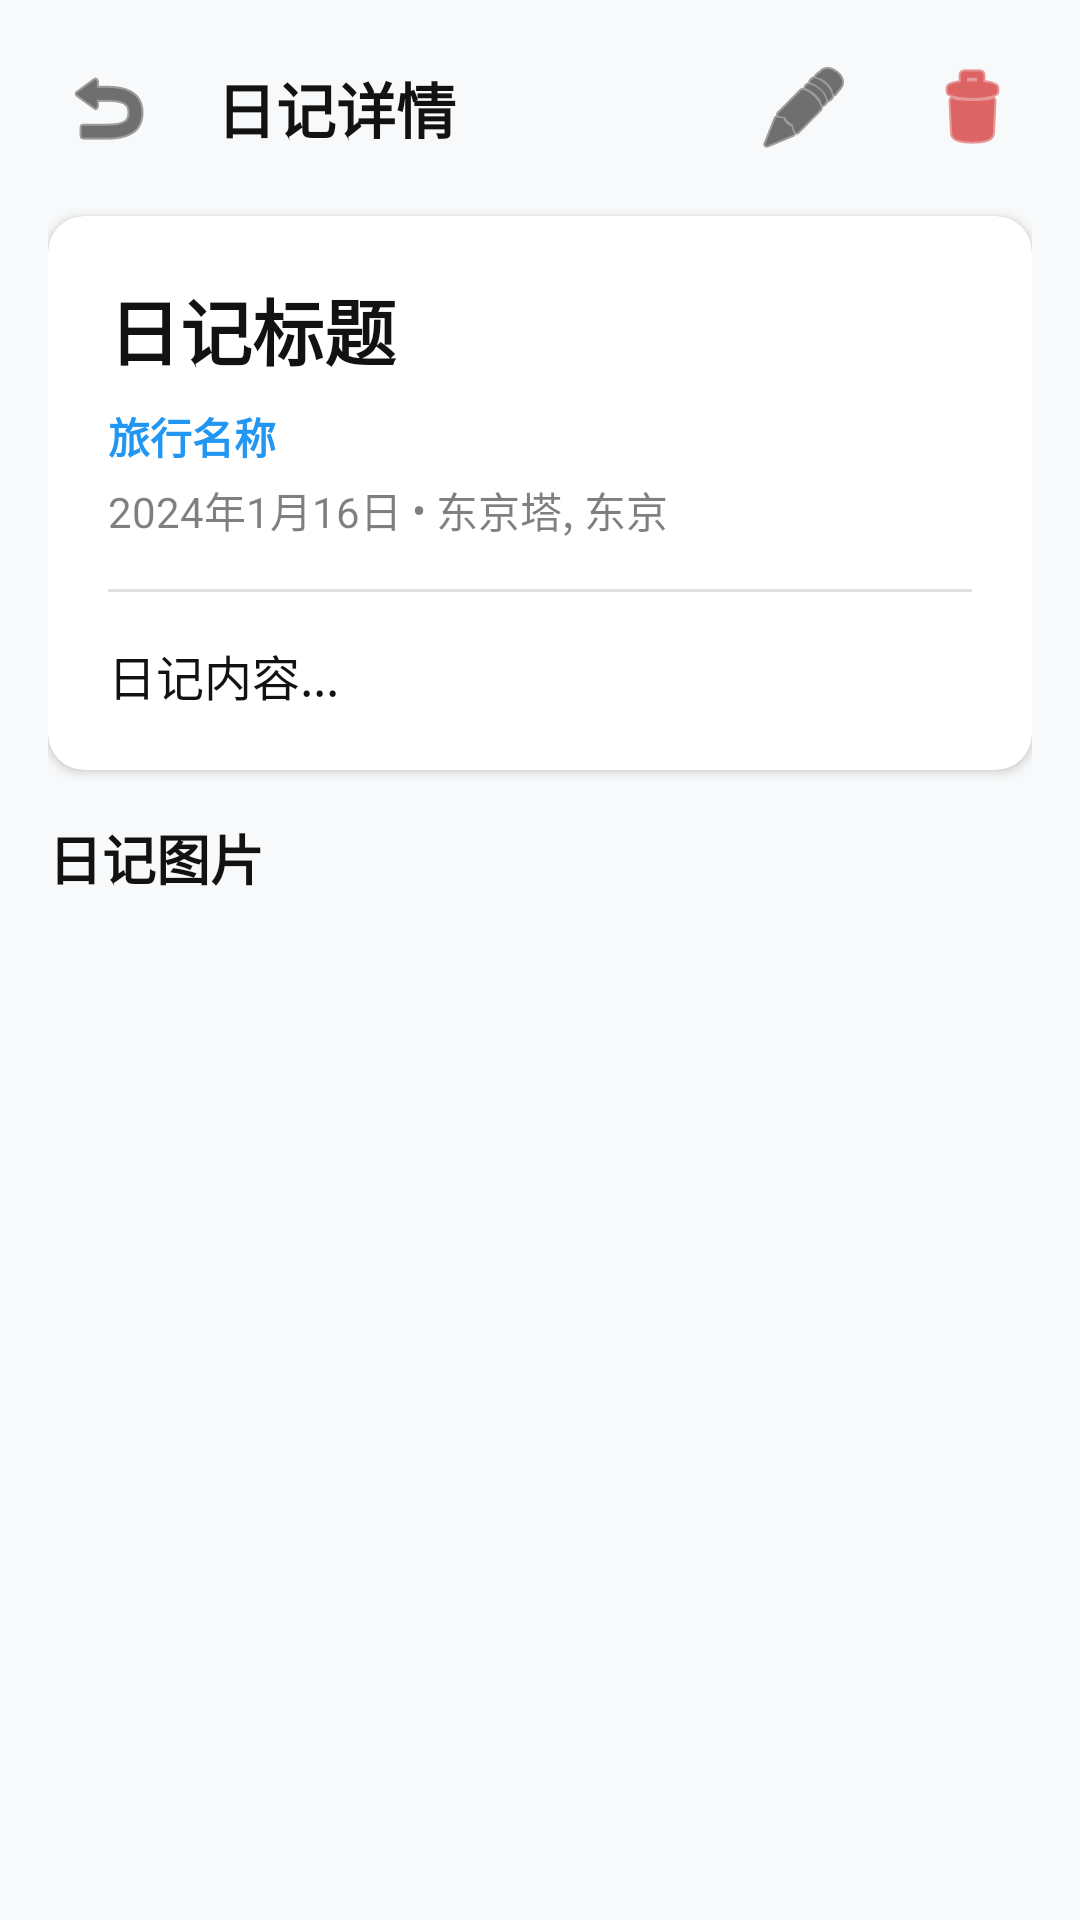

Point at icon controls on the screen. Image size 1080px×1920px, points as (x=x, y=y).
delete: (x=972, y=106)
edit: (x=803, y=107)
revert: (x=109, y=108)
